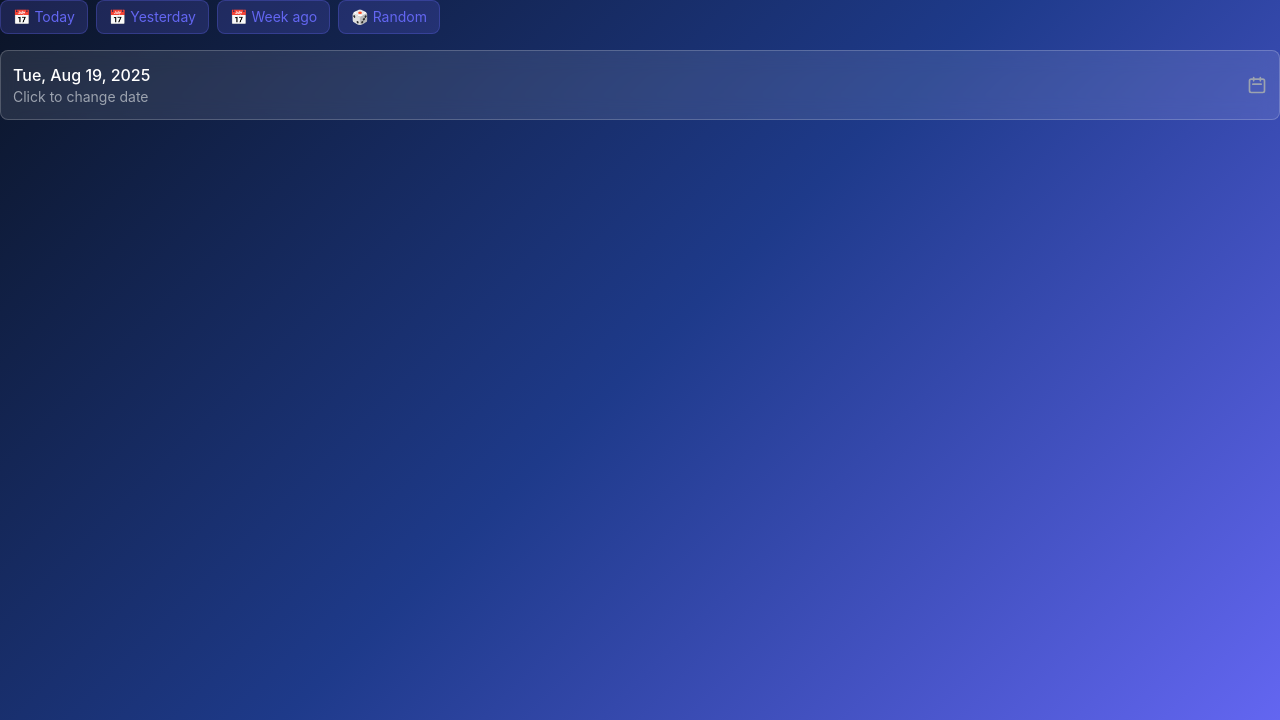
it: DatePicker › highlights today in calendar
Click the button "Tue, Aug 19, 2025 Click to change date".
click(82, 75)  # box [0,50,1279,120]
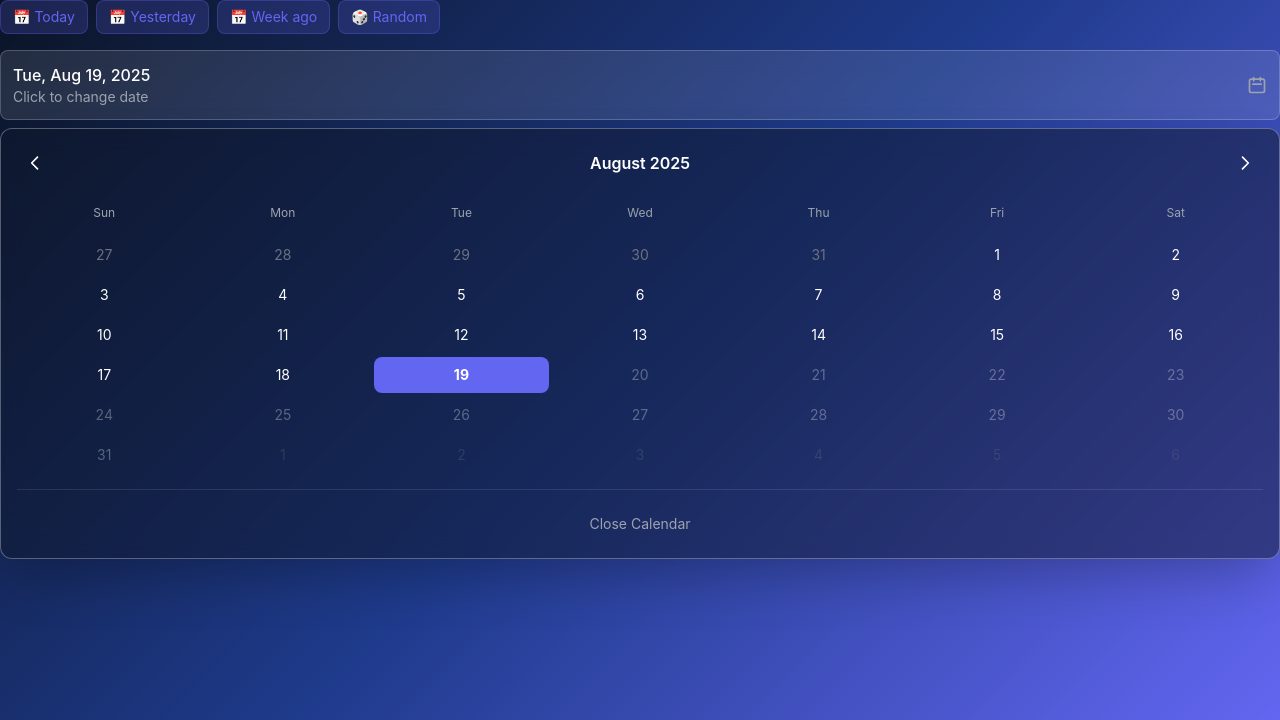
Expected: the button "19" is shown, [374,357,549,393]
